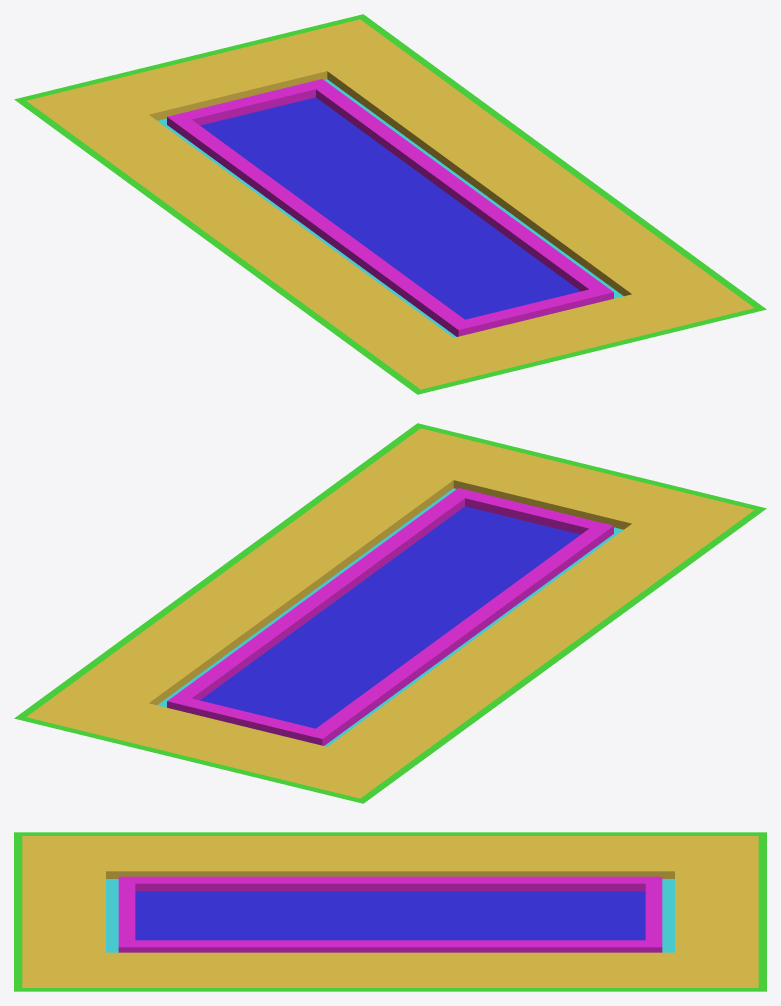
The model's file is Floor_013_F_03.fbx.
3 views of the same model, one above another, from view 1: azimuth 30°, elevation 25°; view 2: azimuth 150°, elevation 25°; view 3: azimuth 270°, elevation 25° (orthographic). The views are drawn at different scales.
Parts seen in each view (by area): view 1: Floor_013_F_03; view 2: Floor_013_F_03; view 3: Floor_013_F_03.
Part boxes in pixels (box(x1,y1,x2,y2)): Floor_013_F_03: box(14, 14, 766, 394); Floor_013_F_03: box(14, 423, 766, 803); Floor_013_F_03: box(14, 832, 766, 991).
Size of the model in its own units: 114 by 12.7 by 229.
